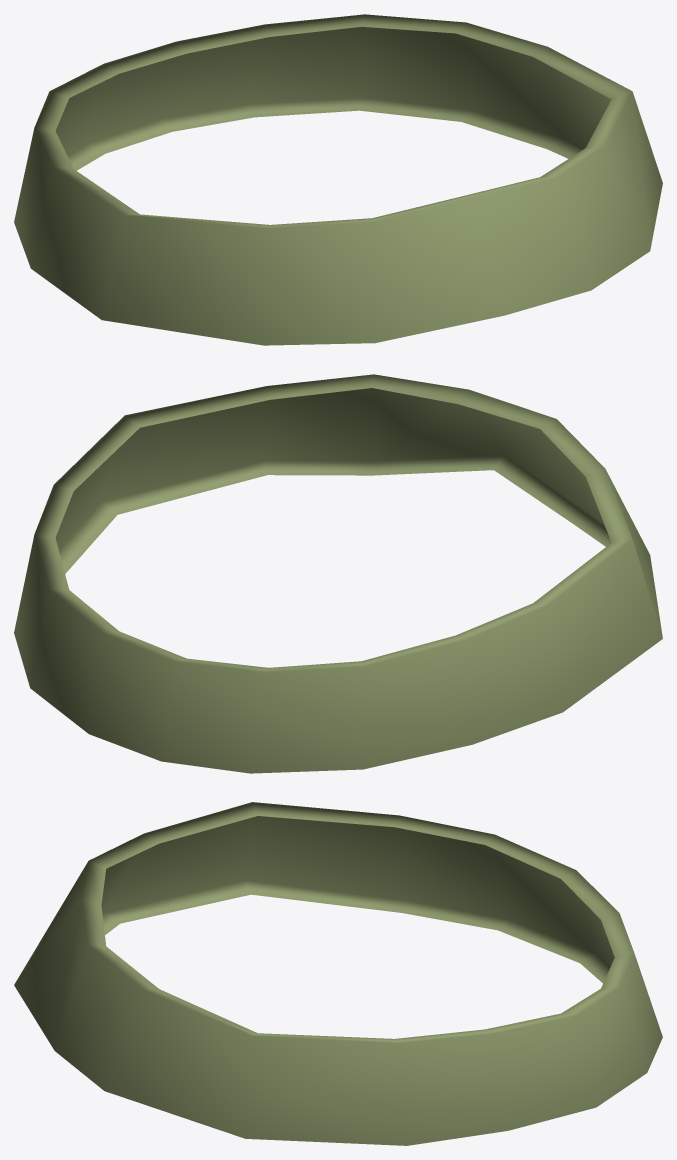
File: Tanky_Soldier_Helmet_Type_2.fbx
The picture shows the model from 3 angles, top to bottom: view 1: azimuth 30°, elevation 25°; view 2: azimuth 150°, elevation 25°; view 3: azimuth 270°, elevation 25°; orthographic projection. The views are drawn at different scales.
Visible parts, largest first — view 1: Tanky_Soldier_Helmet_Type_2; view 2: Tanky_Soldier_Helmet_Type_2; view 3: Tanky_Soldier_Helmet_Type_2.
Boxes of the visible parts, x1=… form: Tanky_Soldier_Helmet_Type_2: x1=14, y1=14, x2=662, y2=345; Tanky_Soldier_Helmet_Type_2: x1=14, y1=374, x2=662, y2=773; Tanky_Soldier_Helmet_Type_2: x1=14, y1=802, x2=662, y2=1145.
Bounding box in the file's own units: 28.8 × 7.41 × 30.54.
